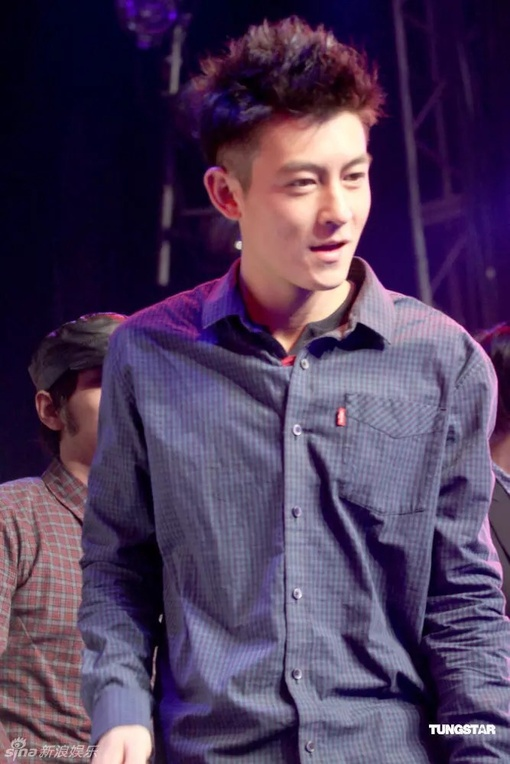flexible: (83, 254, 510, 757)
